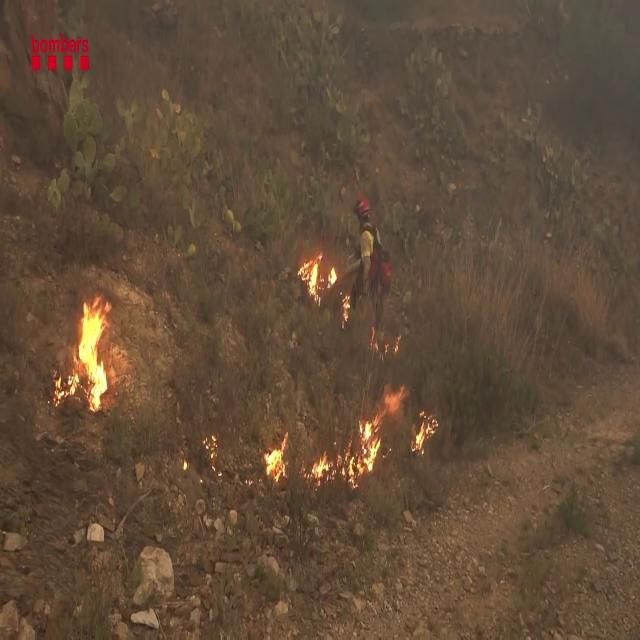Fire: (308, 406, 382, 486), (68, 291, 116, 409), (294, 245, 340, 302), (262, 428, 290, 484)
